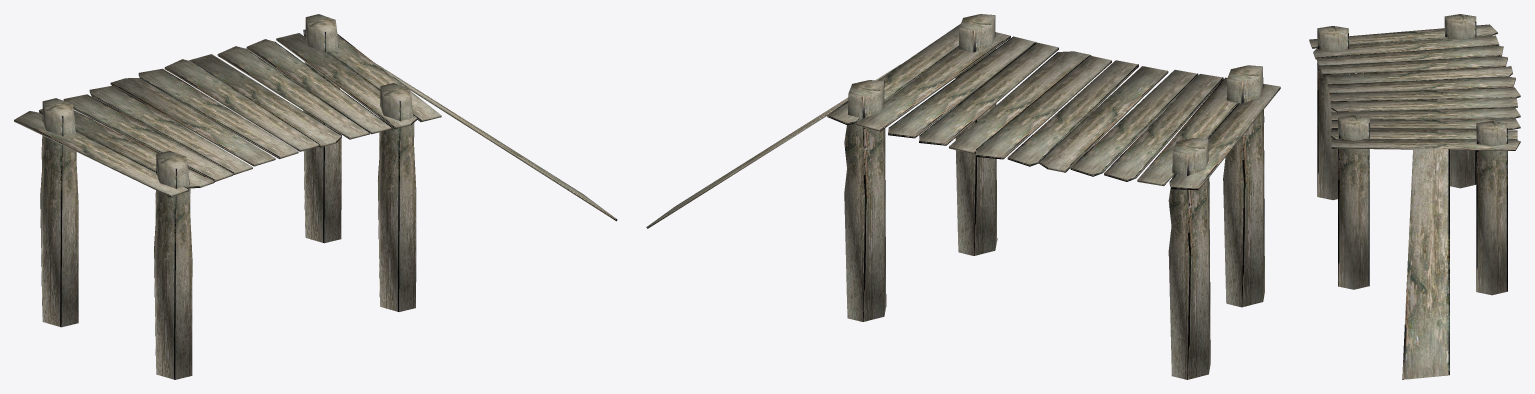
Rendered from Plat.fbx.
3 renders of one model, left to right at view 1: azimuth 30°, elevation 25°; view 2: azimuth 150°, elevation 25°; view 3: azimuth 270°, elevation 25°, orthographic. The views are drawn at different scales.
Parts seen in each view (by area): view 1: Bridge, Post, Ramp; view 2: Bridge, Post, Ramp; view 3: Bridge, Post, Ramp.
Part boxes in pixels (bbox=[...]): Bridge: bbox=[14, 29, 441, 197]; Post: bbox=[40, 14, 416, 379]; Ramp: bbox=[375, 63, 617, 221]; Bridge: bbox=[827, 24, 1280, 190]; Post: bbox=[844, 14, 1264, 379]; Ramp: bbox=[646, 64, 900, 228]; Bridge: bbox=[1309, 24, 1520, 150]; Post: bbox=[1317, 14, 1507, 295]; Ramp: bbox=[1402, 148, 1449, 379].
Size of the model in its own units: 148 by 55.1 by 64.05.
1 material, 1 textured.
